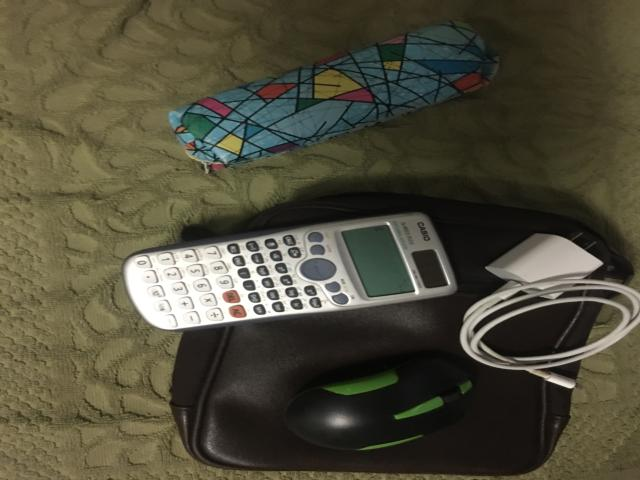Mouse: (285, 358, 472, 450)
wire: (460, 233, 640, 388)
